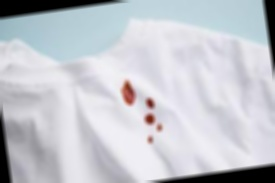blood: (119, 78, 137, 106), (143, 114, 155, 125), (145, 98, 155, 109), (147, 135, 153, 143), (157, 124, 163, 131)
